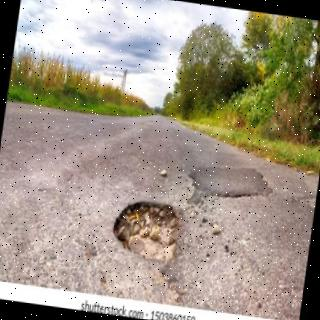pothole: (113, 202, 181, 265)
